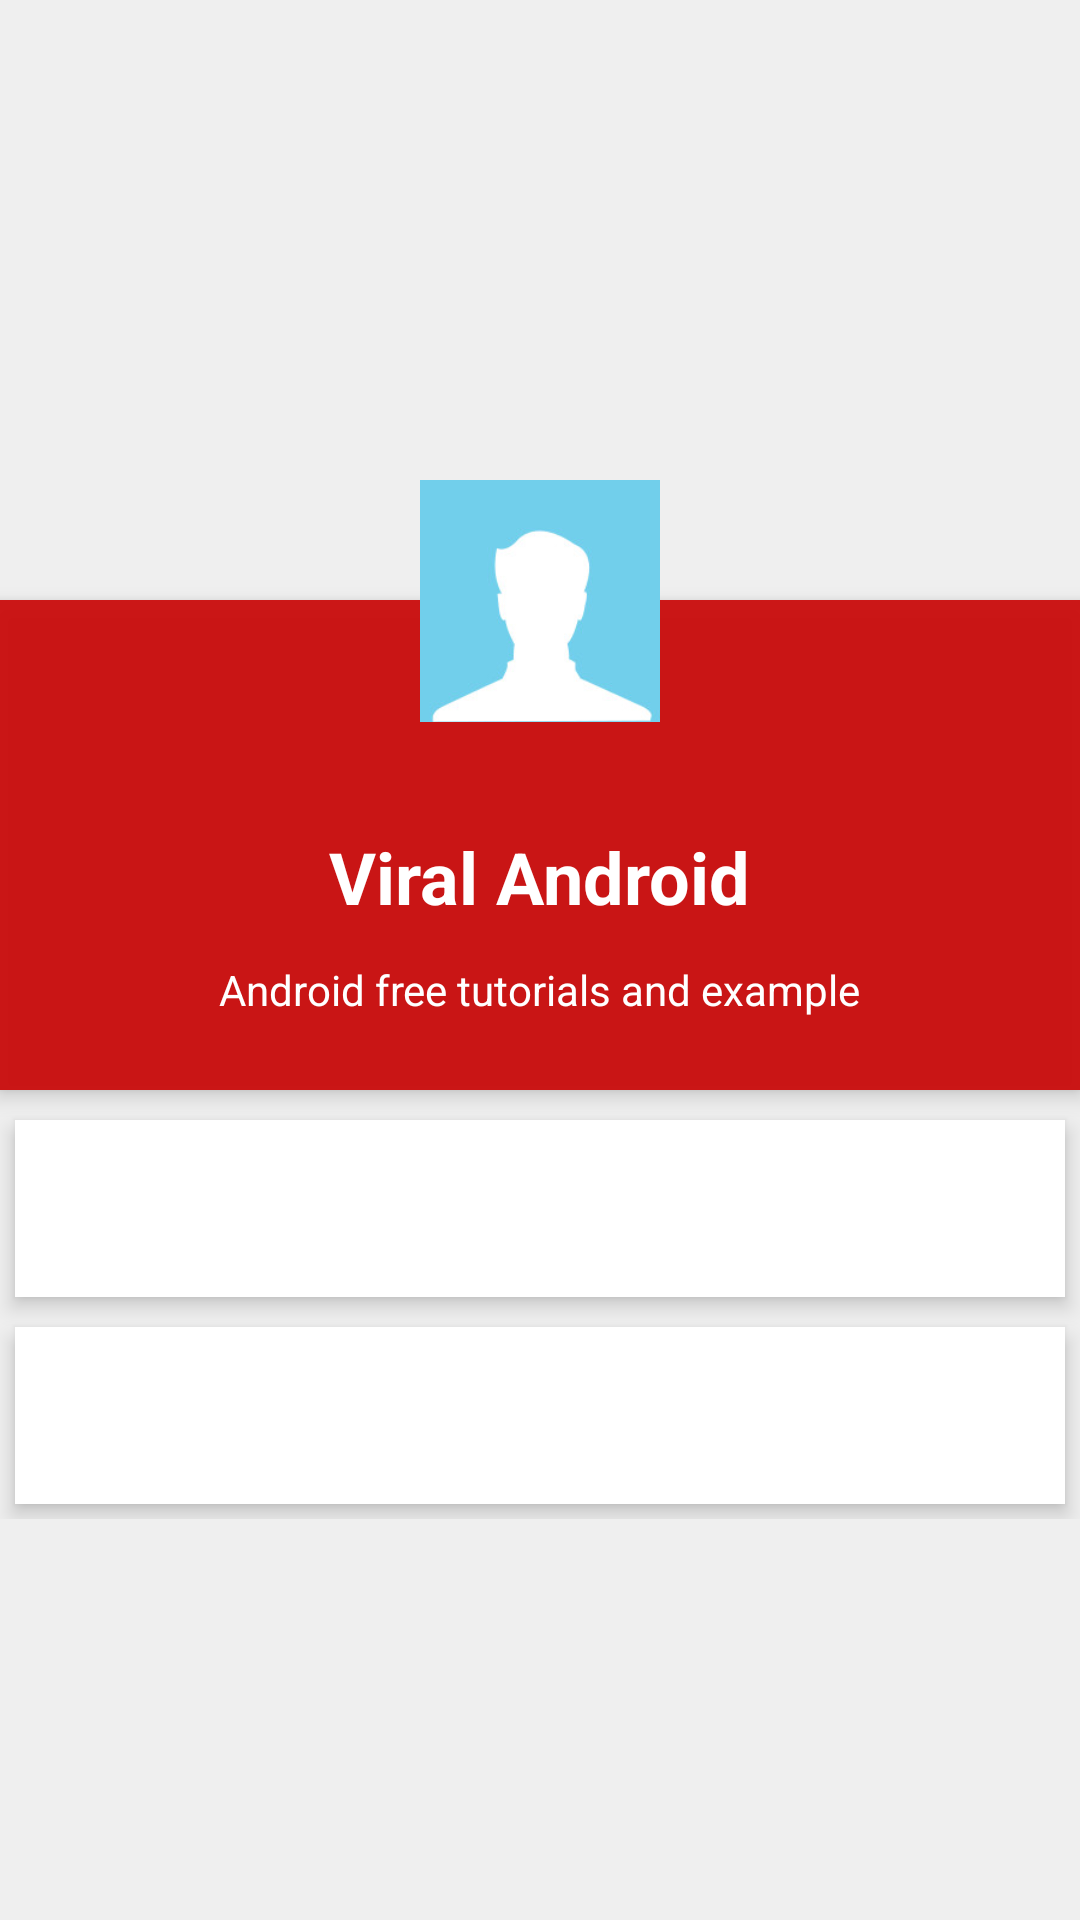

Icons on this 1080×1920 Android screen, each with the point to tap as (x,y):
user profile: (540,601)
